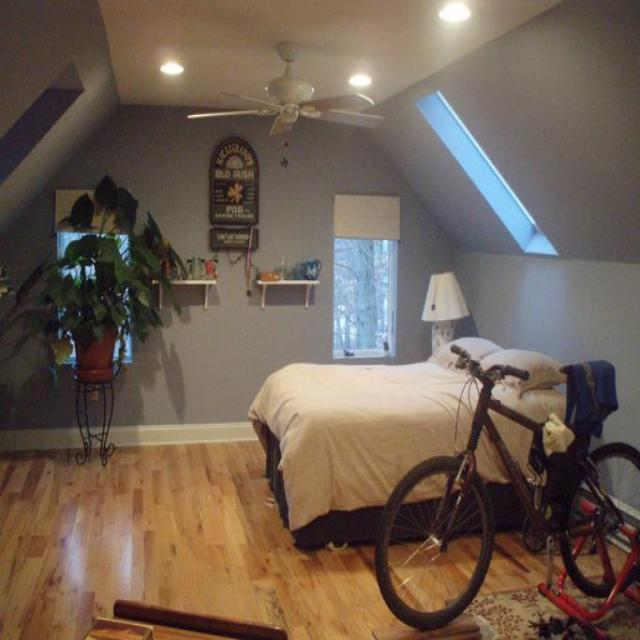bed: (247, 338, 568, 550)
crib: (373, 343, 639, 635)
pillows: (426, 335, 504, 371)
plants: (0, 175, 188, 395)
table-lamp: (420, 270, 470, 354)
window: (331, 192, 399, 358)
